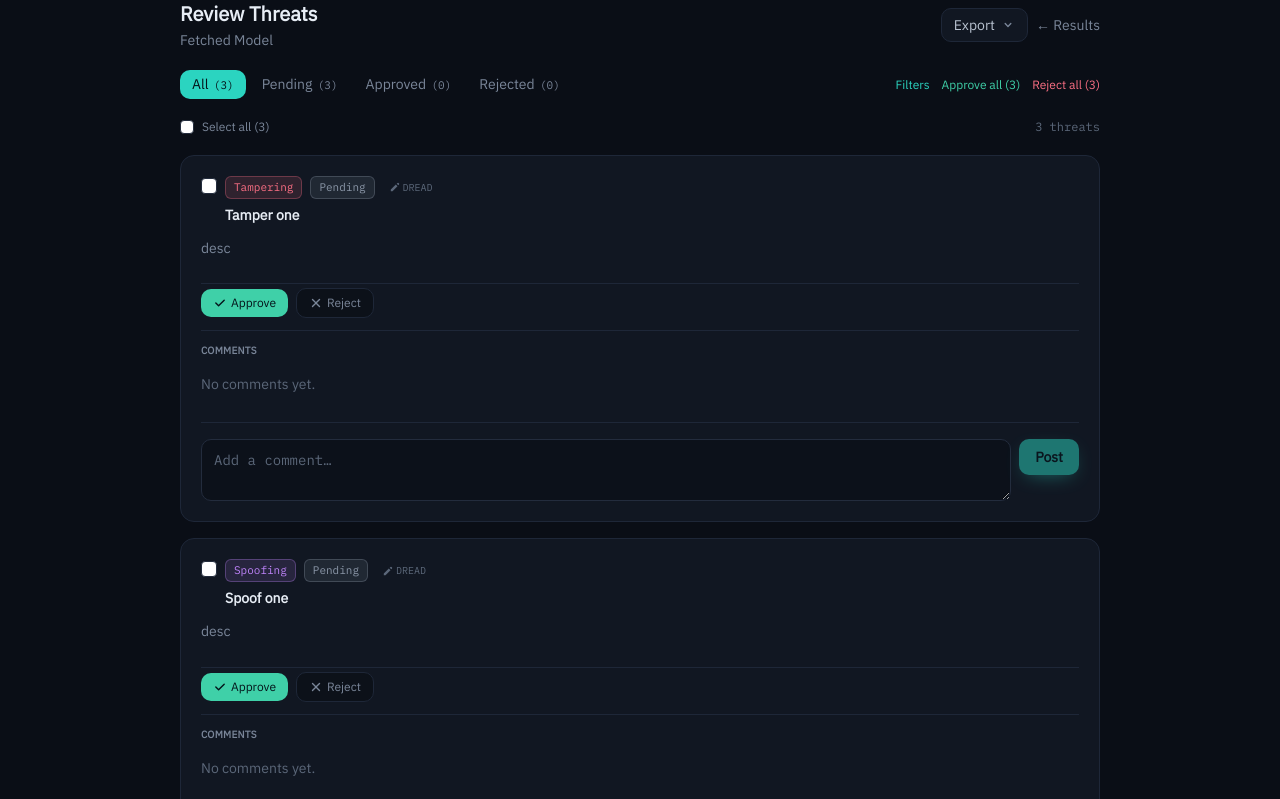
it: Review — category filter › accumulates multiple categories
This screenshot has width=1280, height=799.
Expected: the heading "Tamper one" is shown, [225, 206, 300, 224]
Click the button "Filters" at x=913, y=84, box [896, 76, 930, 92]
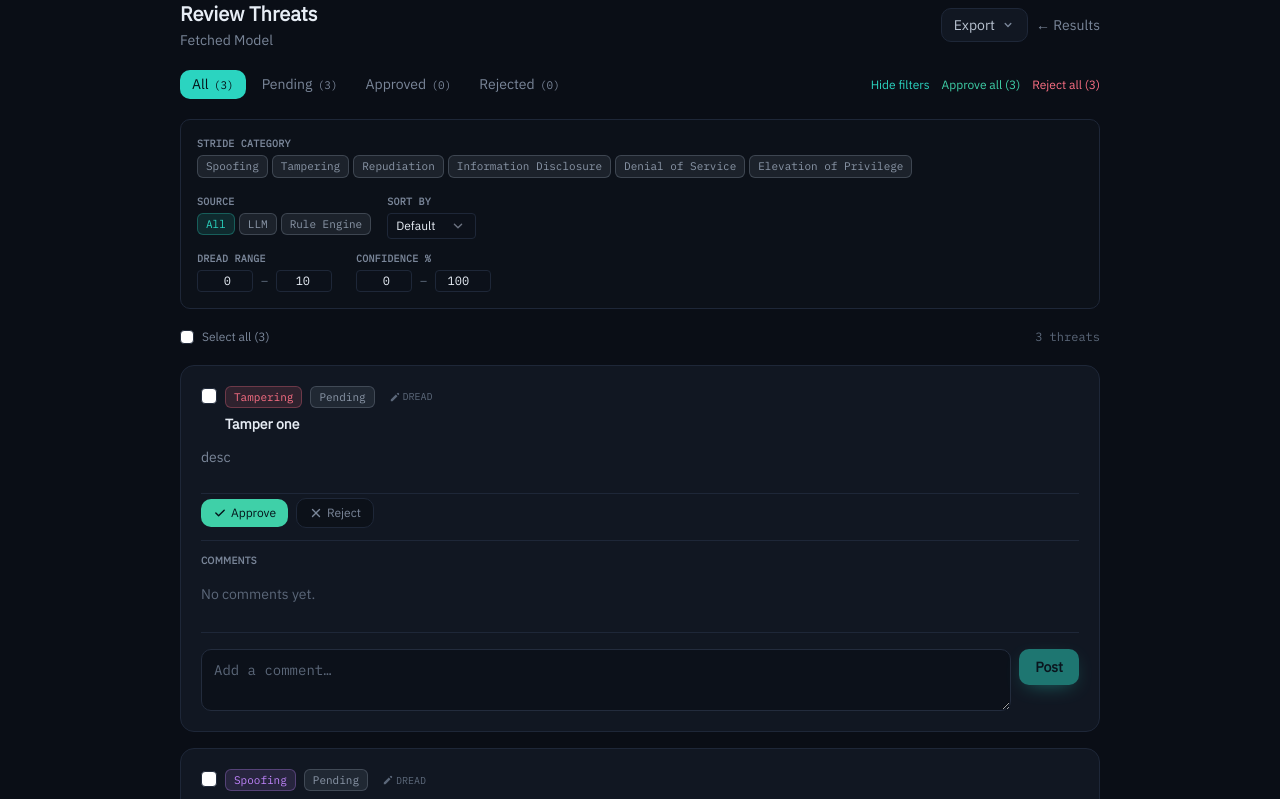
Click the button "Tampering" at x=310, y=166, box [272, 155, 349, 178]
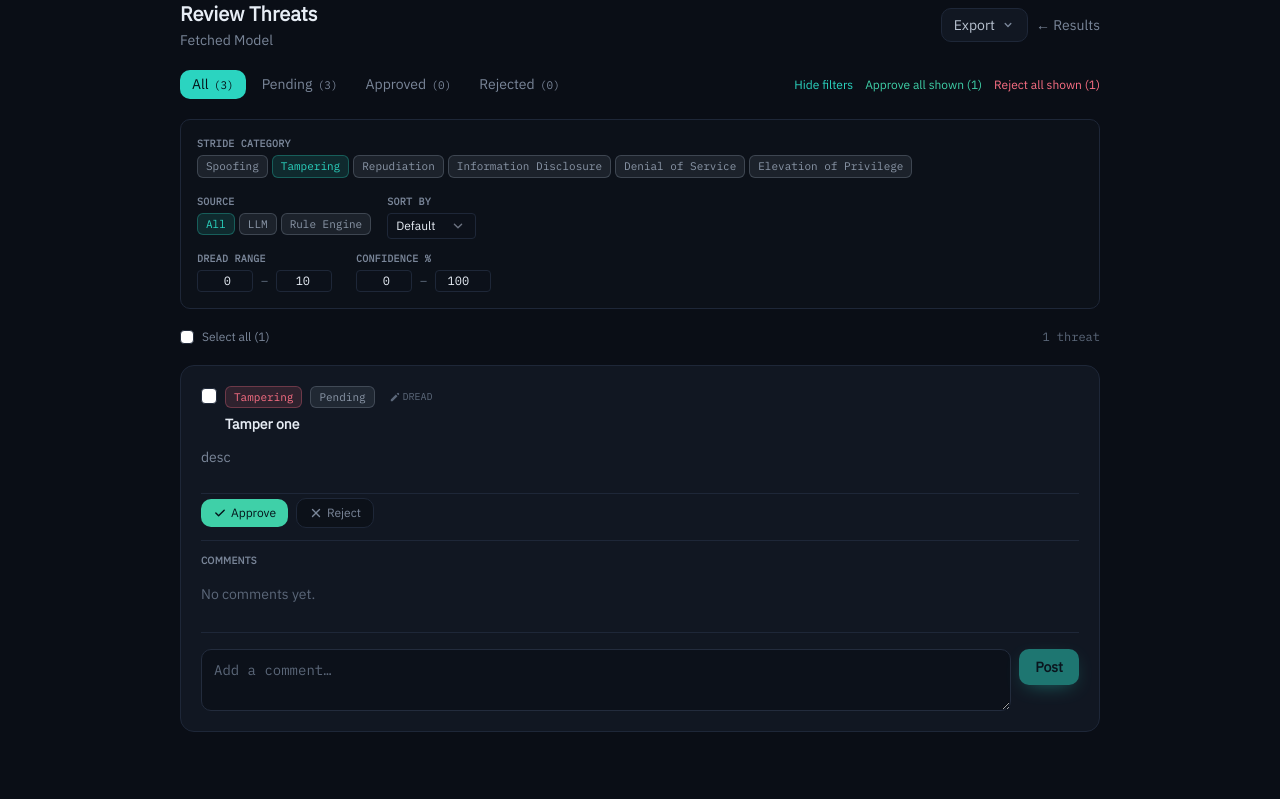
Click the button "Spoofing" at x=232, y=166, box [197, 155, 268, 178]
(page scrolled)
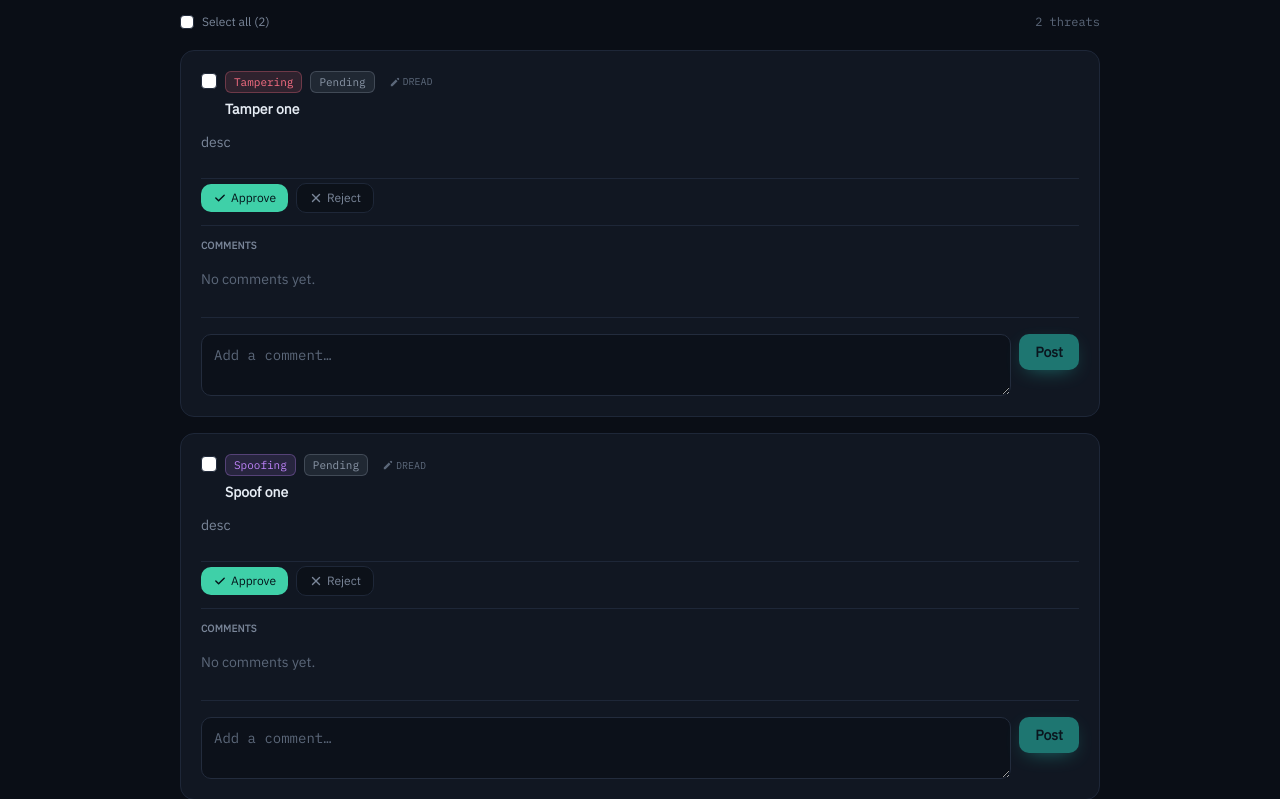
Expected: the heading "Tamper one" is shown, [225, 100, 300, 118]
Expected: the heading "Spoof one" is shown, [225, 483, 288, 501]
